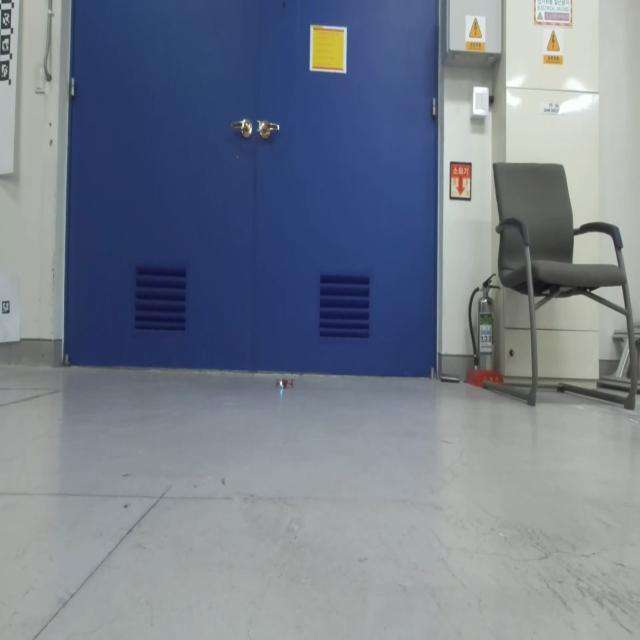crazyflie: (270, 373, 296, 400)
